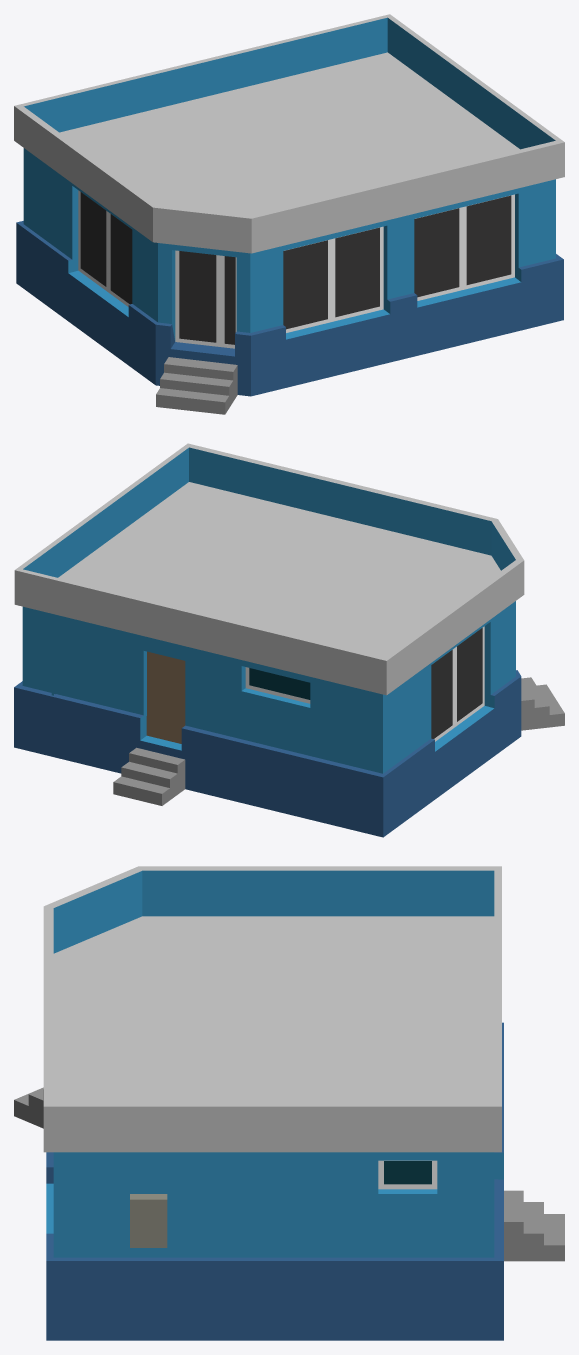
Rendered from building5_ground.fbx.
3 renders of one model, top to bottom at view 1: azimuth 30°, elevation 25°; view 2: azimuth 150°, elevation 25°; view 3: azimuth 270°, elevation 25°, orthographic. The views are drawn at different scales.
Parts seen in each view (by area): view 1: building5_ground; view 2: building5_ground; view 3: building5_ground.
Boxes of the visible parts, left/top/right/bottom form: building5_ground: left=14, top=14, right=564, bottom=414; building5_ground: left=14, top=443, right=564, bottom=837; building5_ground: left=14, top=866, right=564, bottom=1340.
Size of the model in its own units: 818 by 747 by 350.
